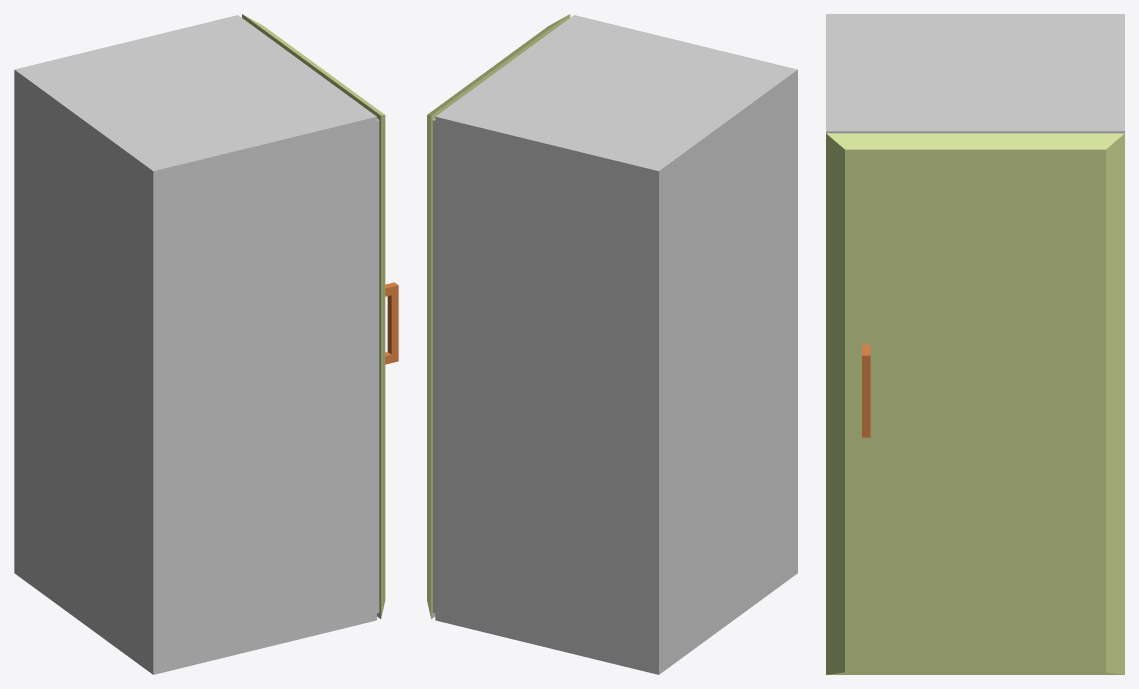
The model's file is fridge.fbx.
3 views of the same model, side by side, from view 1: azimuth 30°, elevation 25°; view 2: azimuth 150°, elevation 25°; view 3: azimuth 270°, elevation 25° (orthographic). The views are drawn at different scales.
Parts seen in each view (by area): view 1: Wardrobe; view 2: Wardrobe; view 3: Wardrobe.
Boxes of the visible parts, x1=… form: Wardrobe: x1=14, y1=14, x2=398, y2=674; Wardrobe: x1=427, y1=14, x2=797, y2=674; Wardrobe: x1=826, y1=14, x2=1124, y2=674.
Size of the model in its own units: 109 by 200 by 100.
